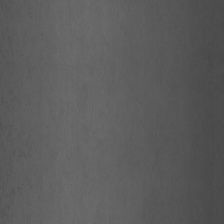silk_spot: (8, 112, 38, 200)
